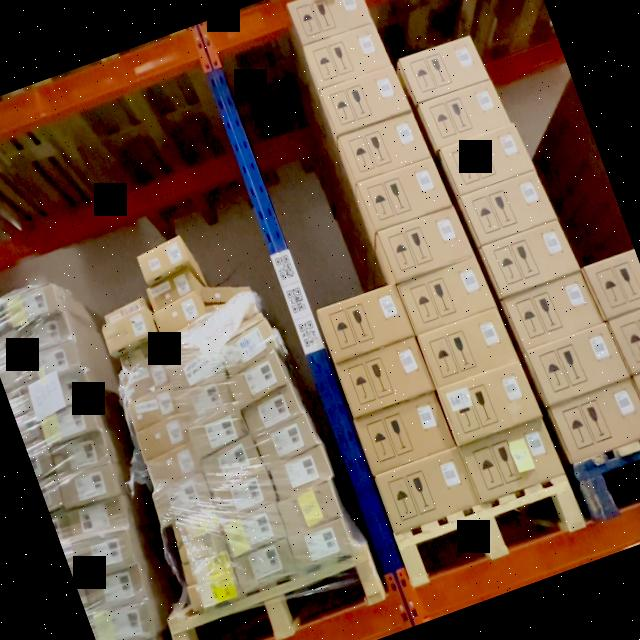box: (358, 394, 452, 473), (379, 453, 474, 529), (420, 310, 516, 384), (552, 382, 640, 462), (530, 328, 624, 402), (340, 341, 432, 416), (465, 424, 560, 496), (442, 366, 536, 438), (485, 223, 576, 296), (508, 278, 600, 350), (322, 286, 409, 362), (402, 262, 494, 332), (360, 162, 450, 232), (384, 210, 472, 280), (342, 112, 428, 182), (465, 172, 551, 240), (321, 69, 407, 134), (404, 35, 486, 101), (446, 128, 530, 192), (306, 24, 388, 86), (424, 82, 505, 144), (289, 0, 371, 46), (279, 484, 342, 536), (287, 518, 351, 564), (153, 476, 215, 523), (270, 450, 332, 494), (226, 507, 286, 552), (213, 472, 274, 514), (256, 417, 315, 460), (193, 408, 248, 454), (236, 542, 294, 584), (230, 358, 288, 400), (176, 374, 232, 416), (146, 443, 198, 488), (206, 442, 262, 483), (169, 348, 226, 388), (134, 416, 188, 458), (244, 392, 302, 431), (127, 387, 177, 428), (104, 314, 154, 354), (137, 241, 187, 278), (171, 508, 222, 544), (188, 575, 240, 610), (154, 298, 206, 332), (184, 554, 234, 588), (165, 323, 214, 357), (121, 362, 168, 396), (148, 273, 195, 306), (180, 534, 226, 560)
